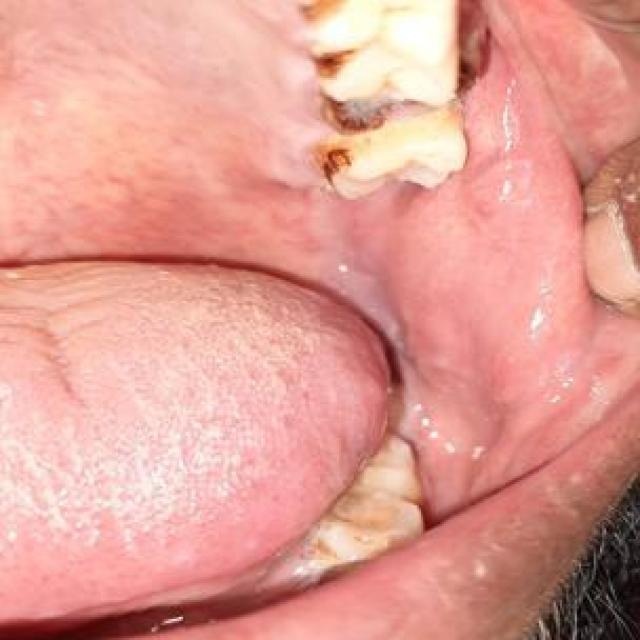processing_area: (0, 0, 638, 621)
